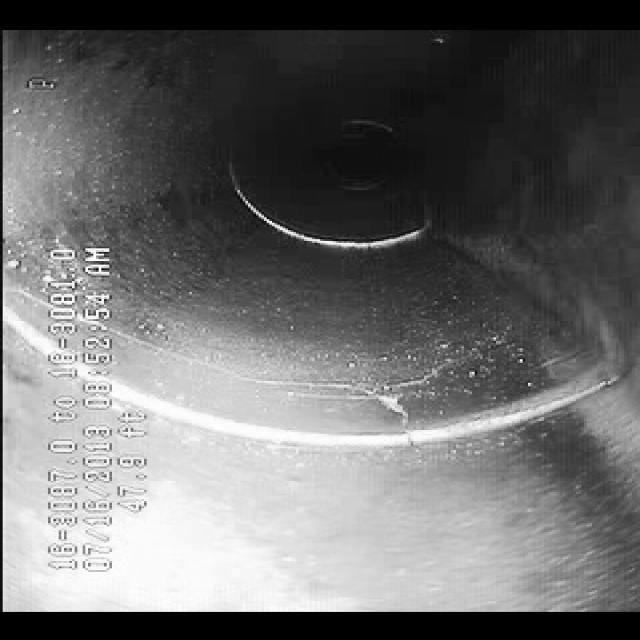Crack: (158, 332, 416, 410)
